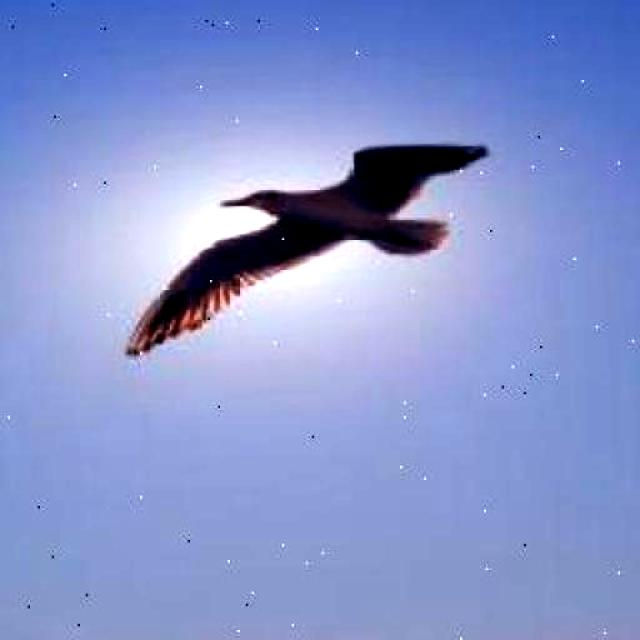airplane: (115, 139, 499, 359)
